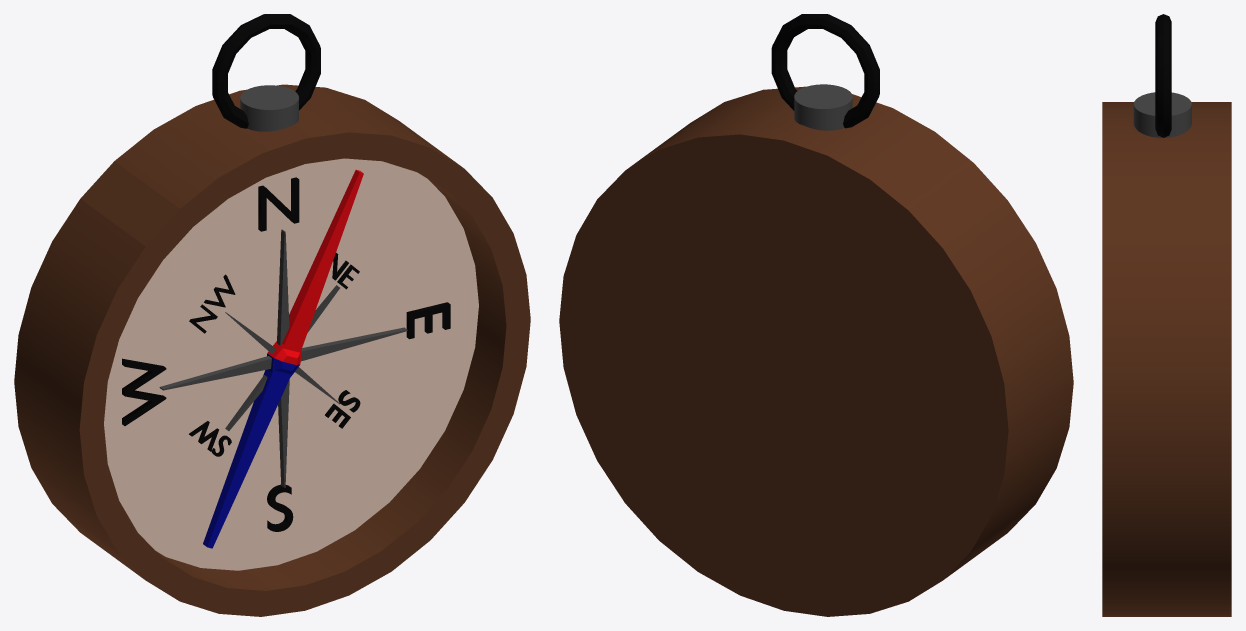
File: compass.fbx
The picture shows the model from 3 angles, left to right: view 1: azimuth 30°, elevation 25°; view 2: azimuth 150°, elevation 25°; view 3: azimuth 270°, elevation 25°; orthographic projection.
Parts seen in each view (by area): view 1: Text.007; view 2: Text.007; view 3: Text.007.
Part boxes in pixels (<box>): Text.007: <box>14,14,530,616</box>; Text.007: <box>559,14,1073,616</box>; Text.007: <box>1102,14,1231,616</box>.
Bounding box in the file's own units: 321 × 392 × 80.65.
